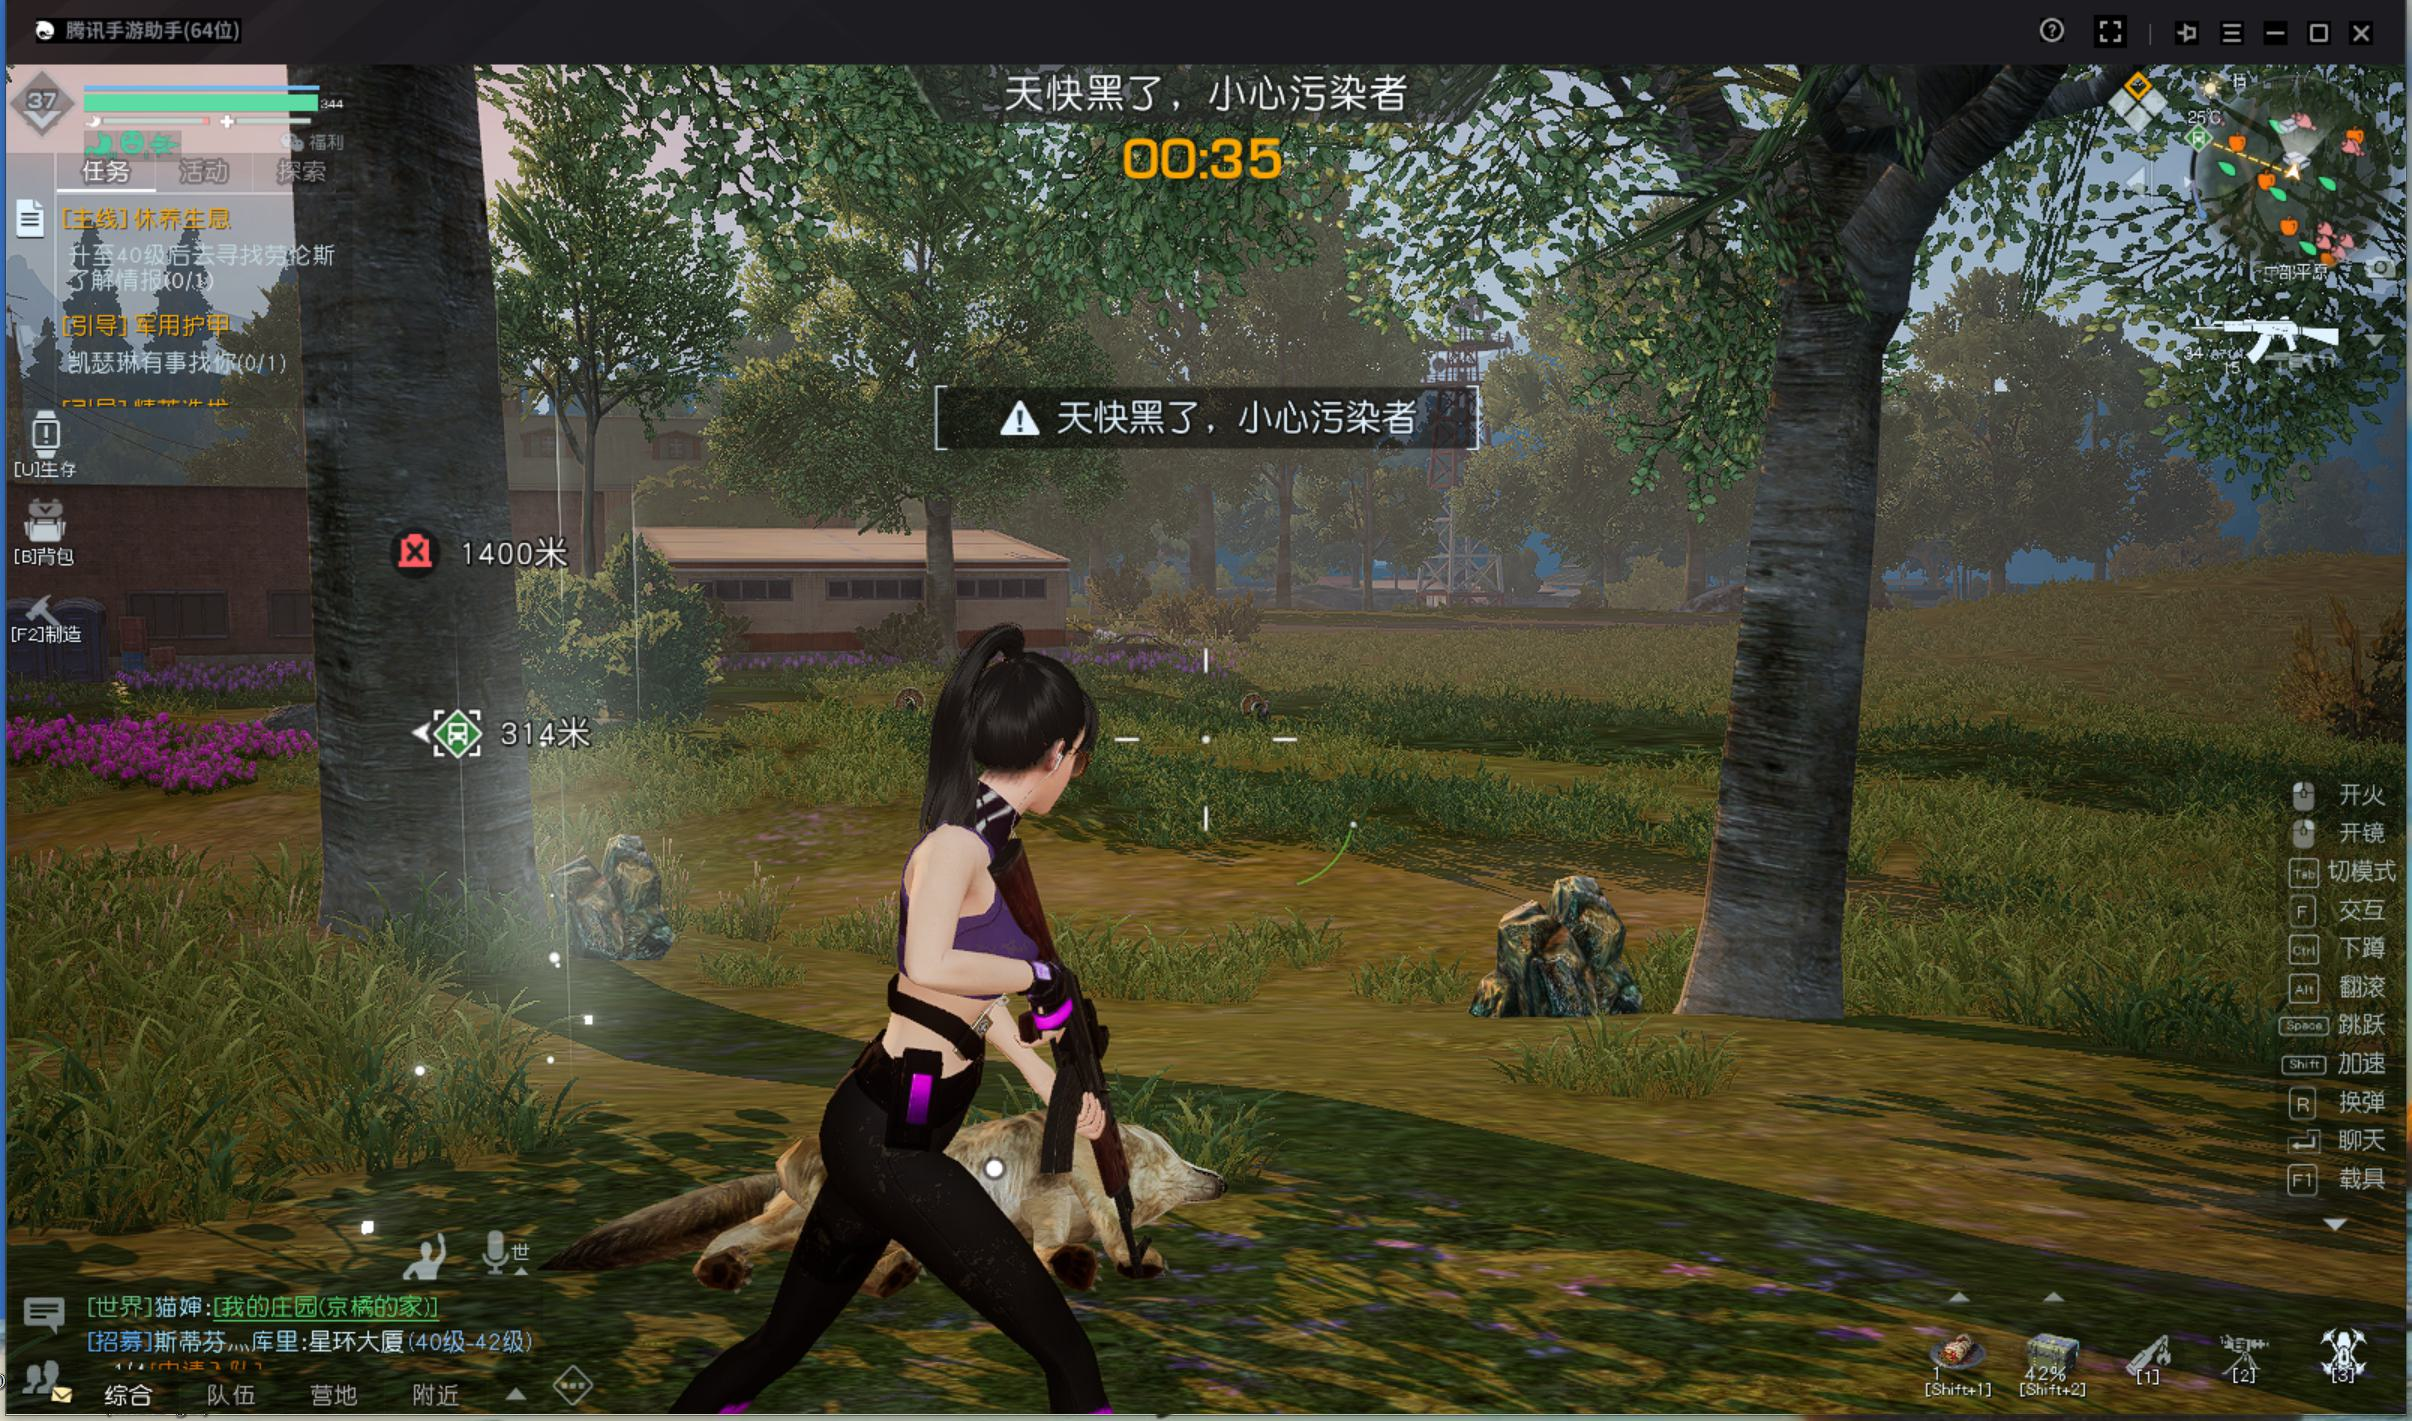stone: (1443, 858, 1654, 1049), (536, 817, 690, 974)
tree: (272, 271, 534, 951), (1680, 376, 1891, 1035), (910, 492, 968, 658), (1174, 484, 1230, 623), (1260, 484, 1299, 629)
